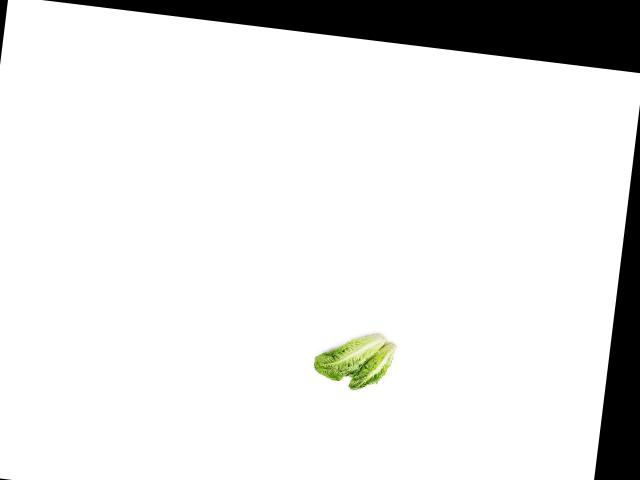lettuce: (311, 322, 382, 387)
